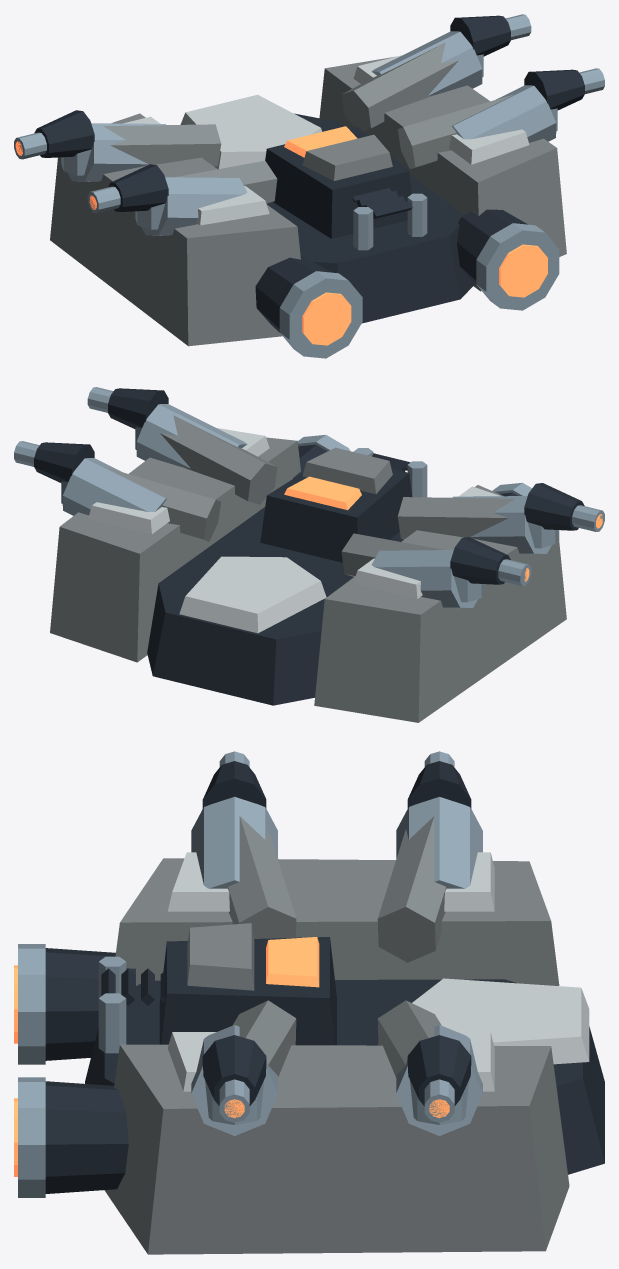
The model's file is c3_broadside.glb.
The picture shows the model from 3 angles, top to bottom: view 1: azimuth 30°, elevation 25°; view 2: azimuth 150°, elevation 25°; view 3: azimuth 270°, elevation 25°; orthographic projection. The views are drawn at different scales.
Visible parts, largest first — view 1: c3_broadside / Armor, c3_broadside / Chassis, c3_broadside / Titanium, c3_broadside / Identification, c3_broadside / Energy; view 2: c3_broadside / Armor, c3_broadside / Chassis, c3_broadside / Titanium, c3_broadside / Identification, c3_broadside / Energy; view 3: c3_broadside / Armor, c3_broadside / Chassis, c3_broadside / Titanium, c3_broadside / Identification, c3_broadside / Energy.
Boxes of the visible parts, x1,y1,x2,y2 form: c3_broadside / Armor: (50, 42, 566, 346); c3_broadside / Chassis: (34, 15, 584, 332); c3_broadside / Titanium: (14, 14, 604, 358); c3_broadside / Identification: (123, 55, 529, 225); c3_broadside / Energy: (15, 126, 547, 345); c3_broadside / Armor: (50, 415, 566, 722); c3_broadside / Chassis: (34, 388, 584, 705); c3_broadside / Titanium: (14, 387, 604, 608); c3_broadside / Identification: (88, 428, 500, 633); c3_broadside / Energy: (284, 476, 602, 581); c3_broadside / Armor: (104, 816, 569, 1254); c3_broadside / Chassis: (45, 761, 604, 1193); c3_broadside / Titanium: (18, 751, 482, 1197); c3_broadside / Identification: (167, 852, 589, 1091); c3_broadside / Energy: (14, 937, 449, 1176).
Bounding box in the file's own units: 2.06 × 0.616 × 1.5.
